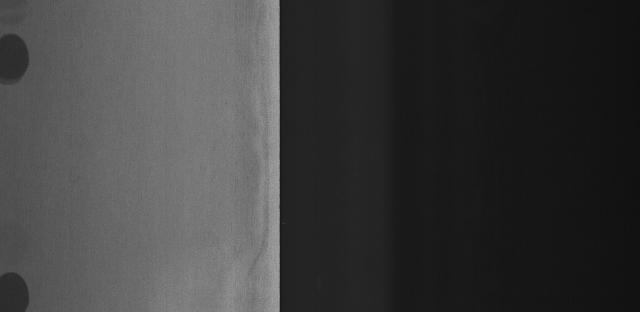oil_spot: (0, 25, 36, 90), (0, 250, 38, 311)
